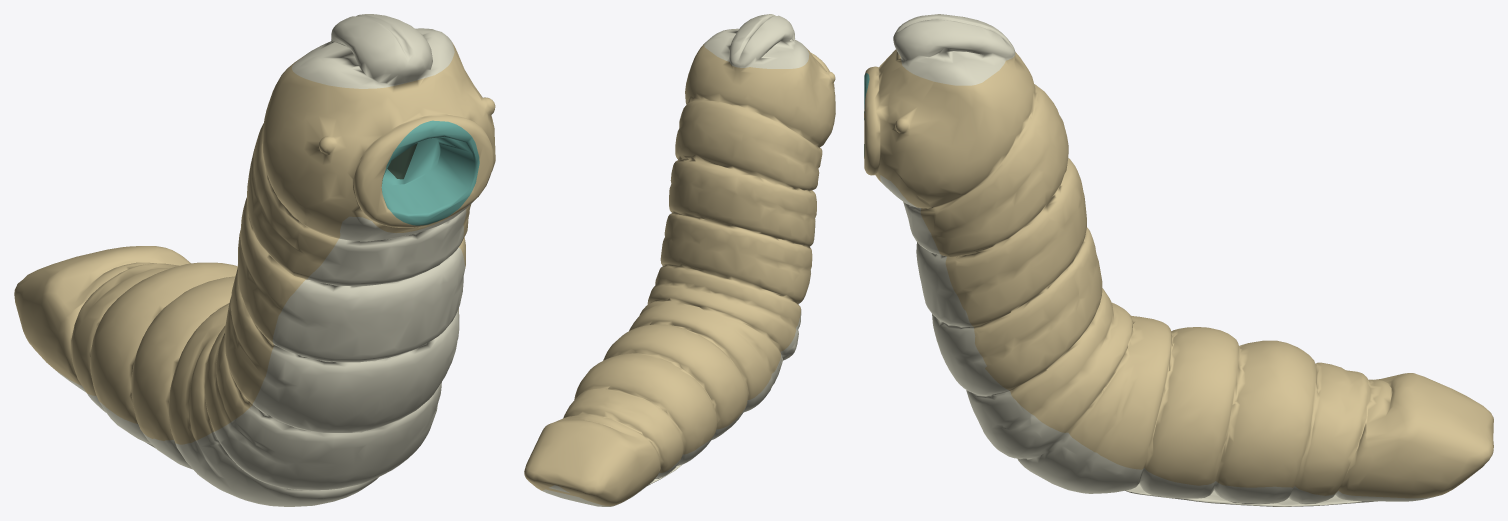
Rendered from body.glb.
3 views of the same model, side by side, from view 1: azimuth 30°, elevation 25°; view 2: azimuth 150°, elevation 25°; view 3: azimuth 270°, elevation 25° (orthographic). The views are drawn at different scales.
Visible parts, largest first — view 1: worm; view 2: worm; view 3: worm.
Boxes of the visible parts, <box> form: worm: <box>14,14,495,506</box>; worm: <box>524,14,835,506</box>; worm: <box>864,14,1493,506</box>.
Size of the model in its own units: 1.05 by 2.6 by 3.17.
